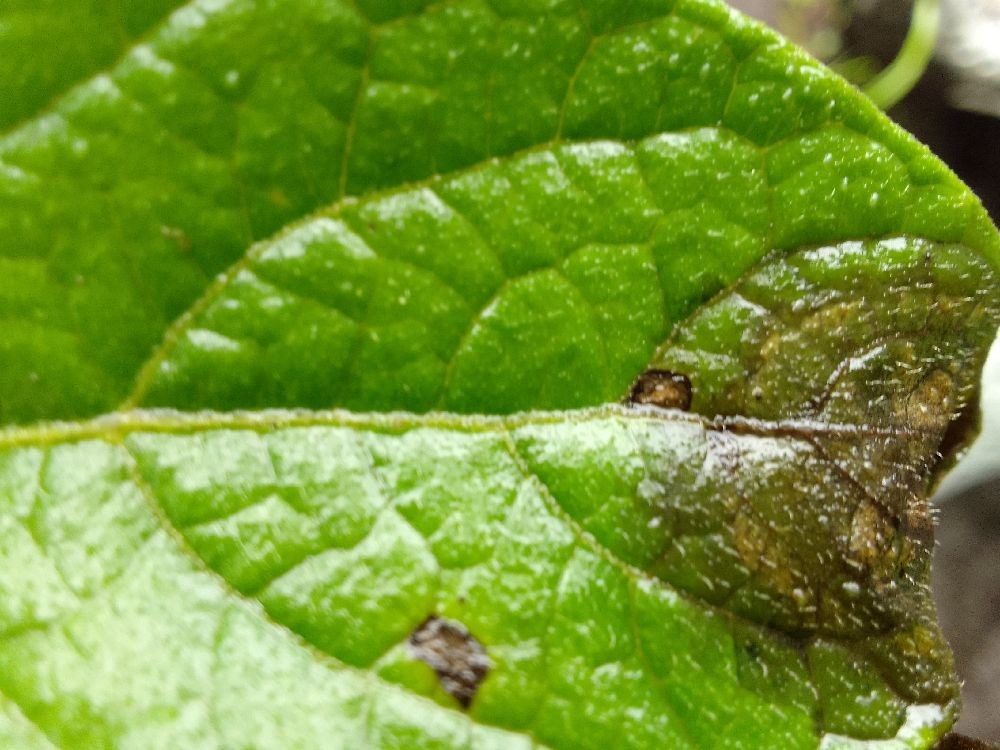late_blight: (608, 257, 999, 749), (709, 0, 937, 111), (396, 601, 501, 725)
